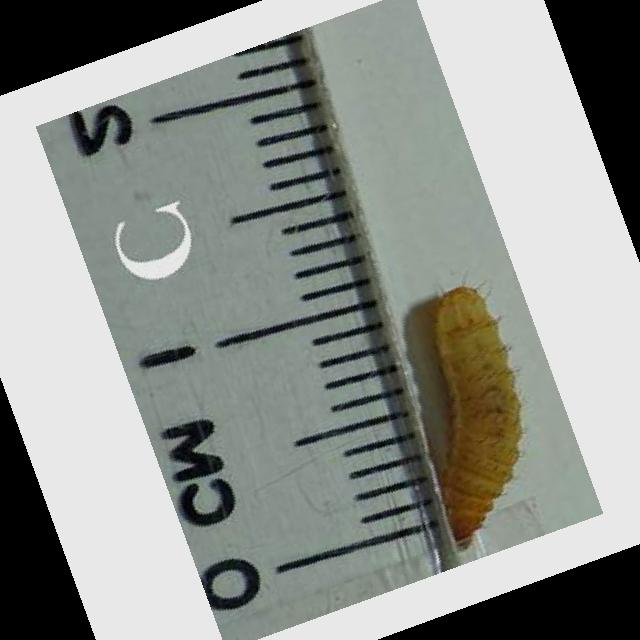Maggot: (429, 286, 527, 547)
